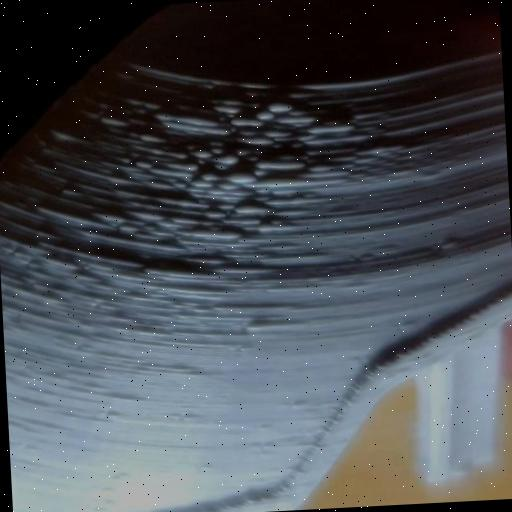blobs: (224, 167, 254, 189), (252, 108, 280, 130), (266, 98, 296, 118), (214, 150, 242, 171), (188, 144, 212, 166), (230, 112, 254, 134), (232, 198, 258, 218), (202, 203, 228, 223), (198, 168, 226, 186), (186, 176, 212, 192), (132, 158, 152, 175)
